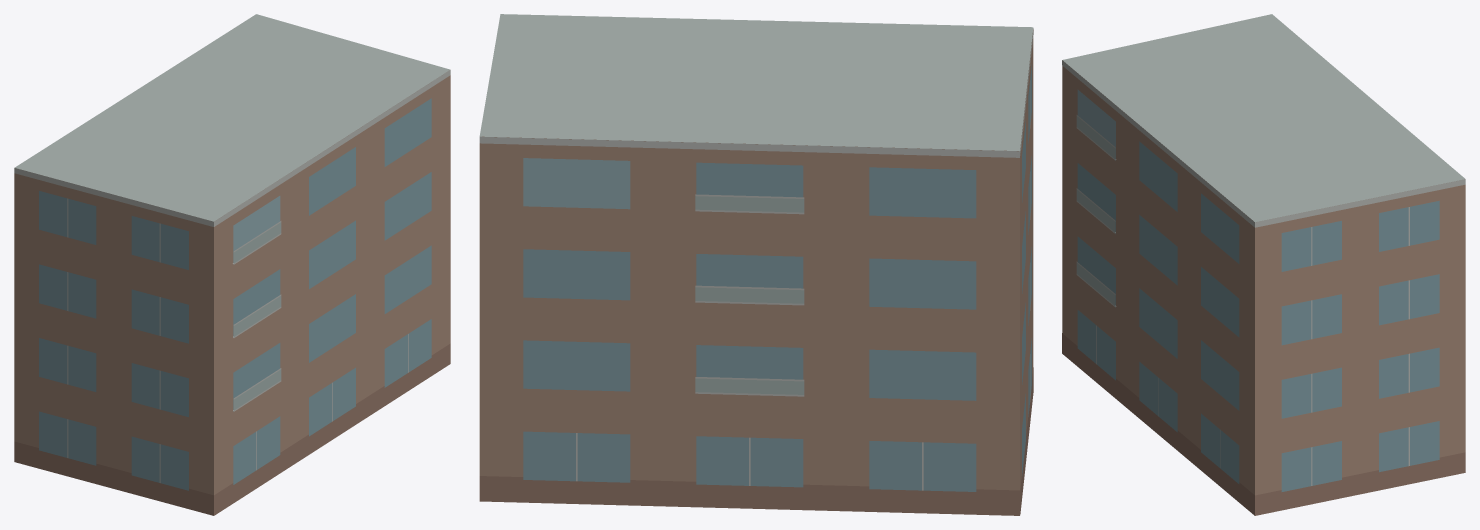
Rendered from survey-upis-32744227.glb.
The picture shows the model from 3 angles, left to right: view 1: azimuth 30°, elevation 25°; view 2: azimuth 150°, elevation 25°; view 3: azimuth 270°, elevation 25°; orthographic projection. The views are drawn at different scales.
Visible parts, largest first — view 1: survey-upis-32744227.tmp; view 2: survey-upis-32744227.tmp; view 3: survey-upis-32744227.tmp.
Part boxes in pixels (left/top/right/bottom): survey-upis-32744227.tmp: left=14, top=14, right=450, bottom=515; survey-upis-32744227.tmp: left=479, top=14, right=1033, bottom=515; survey-upis-32744227.tmp: left=1062, top=14, right=1465, bottom=515.
Bounding box in the file's own units: 19.94 × 13.1 × 16.33.
